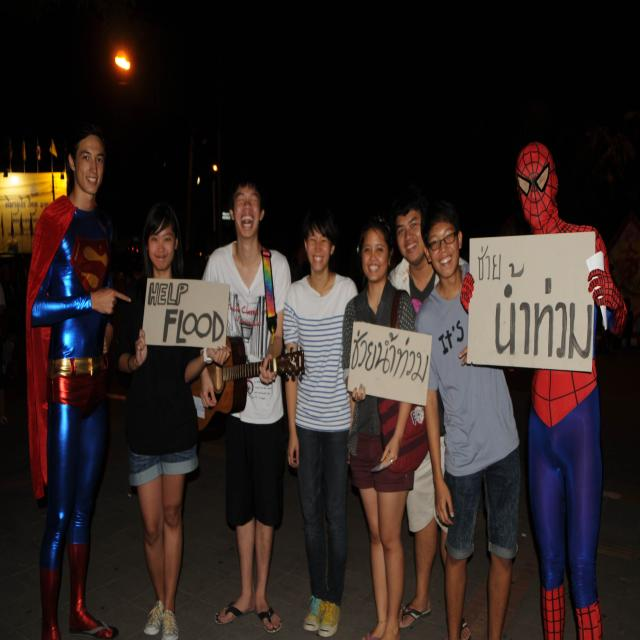body: (459, 138, 629, 640), (24, 119, 134, 640), (106, 201, 234, 640), (413, 196, 524, 640), (193, 169, 293, 635), (387, 190, 475, 640), (340, 213, 430, 640), (282, 201, 365, 640)
